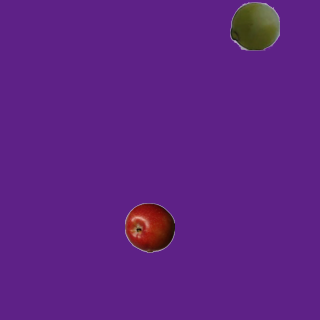Apple Braeburn: (124, 202, 174, 252)
Grape White 4: (229, 0, 279, 50)
